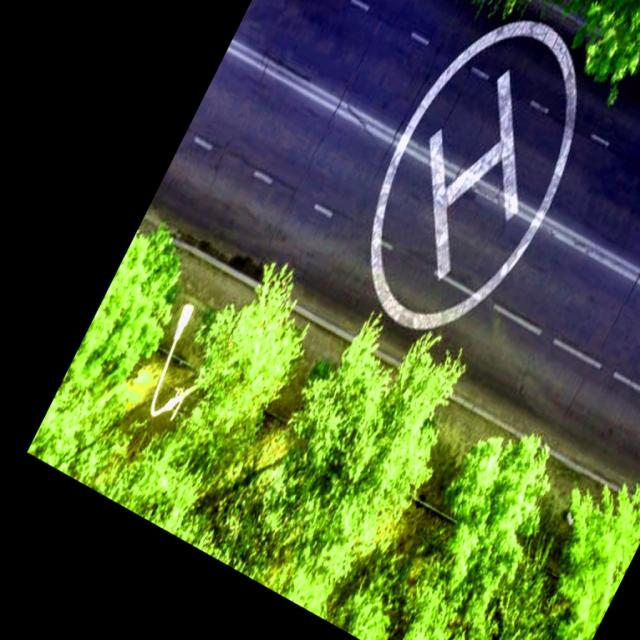helipad: (364, 15, 584, 334)
